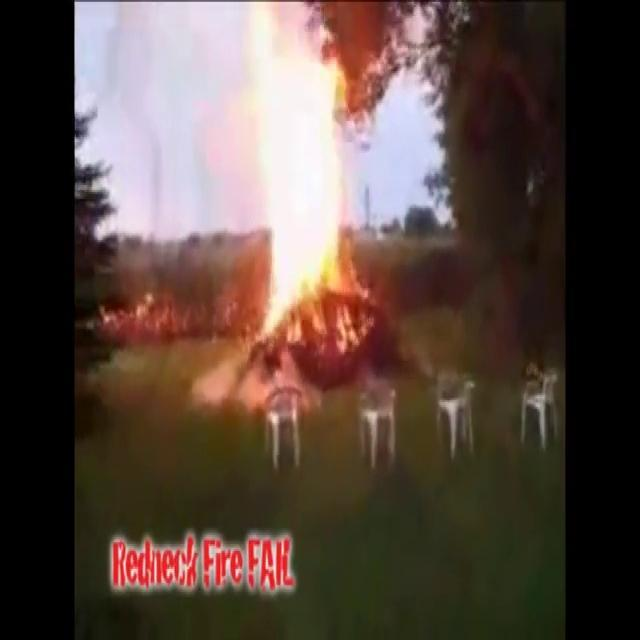Fire: (226, 1, 366, 351)
